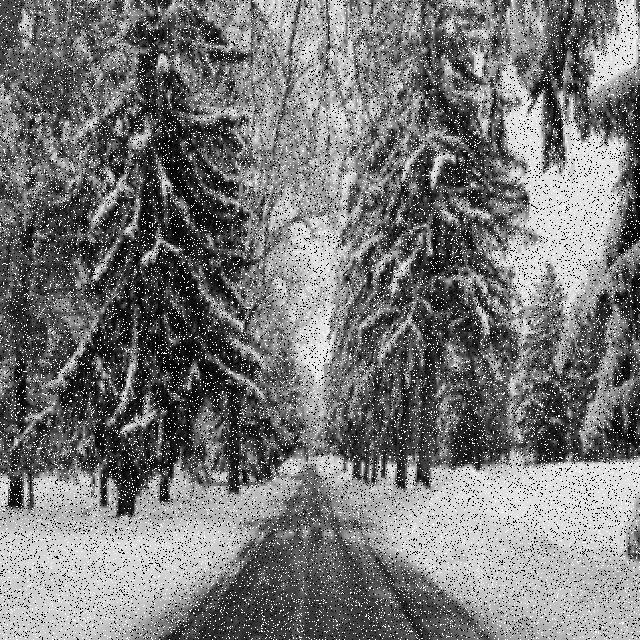ice-road: (170, 467, 486, 640)
